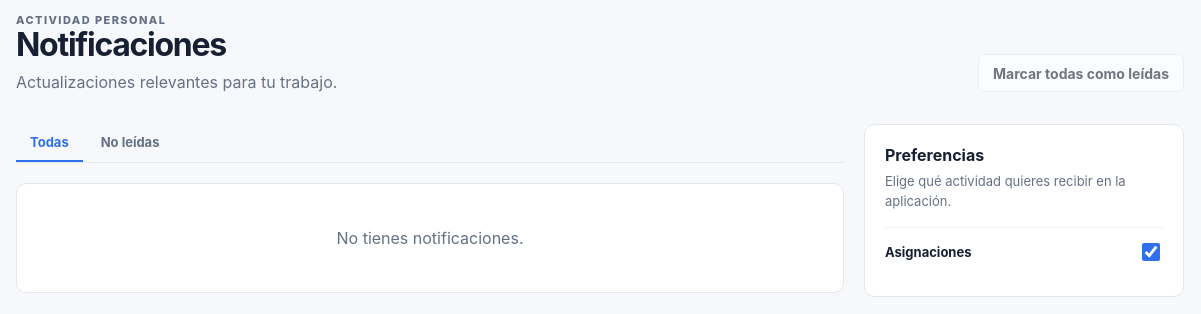
Scenario: NotificationsView › shows an empty state for each filter
This screenshot has width=1201, height=314.
What coordinates should you click on to do the following:
click the tab "No leídas"
I would click on:
 (130, 143)
Its box is [87, 124, 174, 162].
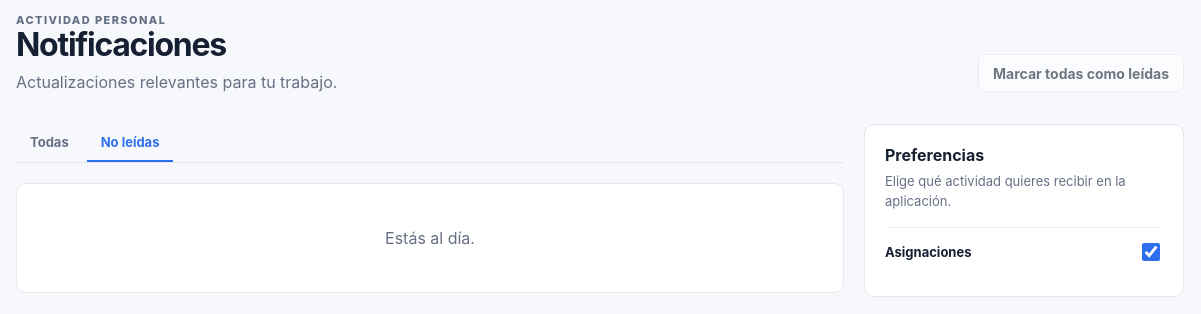
expect the text "Estás al día." is shown: met, box [16, 183, 844, 293]
